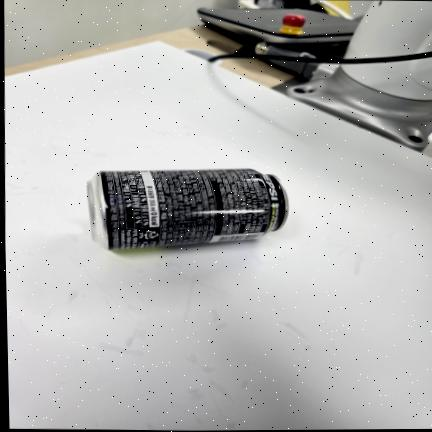can_pepsi_zero: (87, 168, 288, 250)
